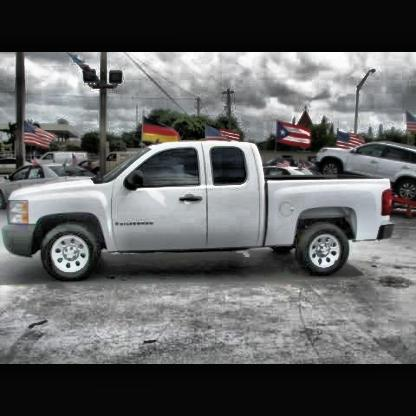Chevrolet Silverado 1500 Extended Cab 2012: (2, 142, 396, 283)
